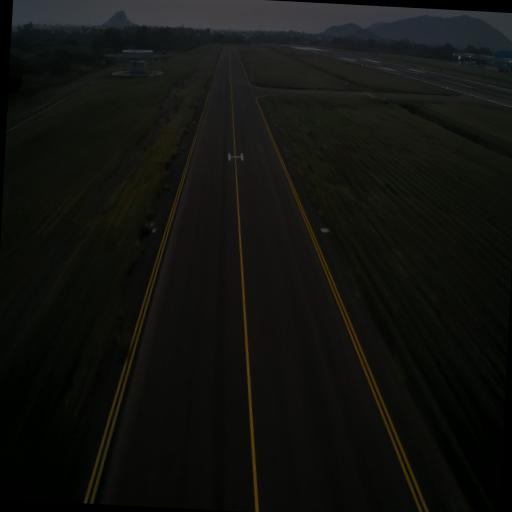on: (284, 146, 287, 152), (182, 146, 184, 150)
